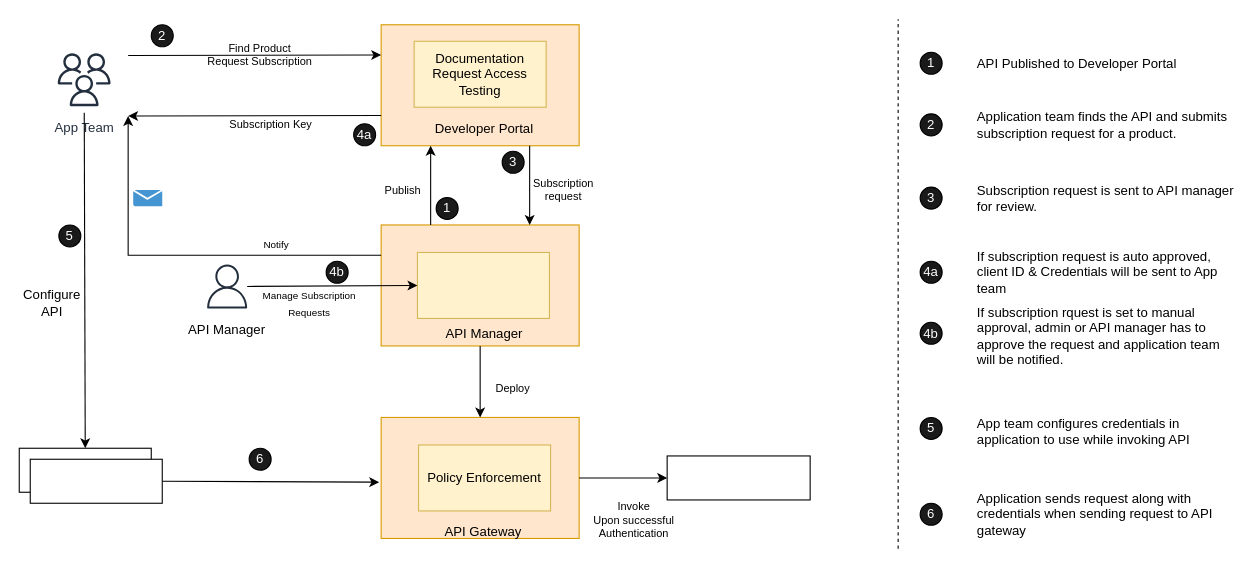
This 1258x570 diagram has some shape labels left out. The shapes that lost their labels are listed below. From the top down, each one's box as (x1, y1, x2, y2) in pixels, then its label:
(416, 251, 549, 318): API & subscription management
(29, 458, 162, 503): Applications
(666, 455, 810, 500): Backend
